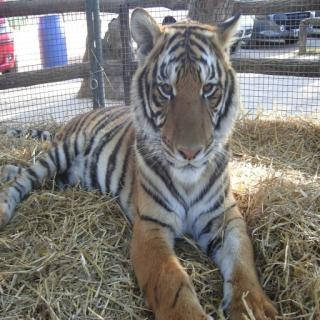Tiger: (5, 4, 285, 320)
